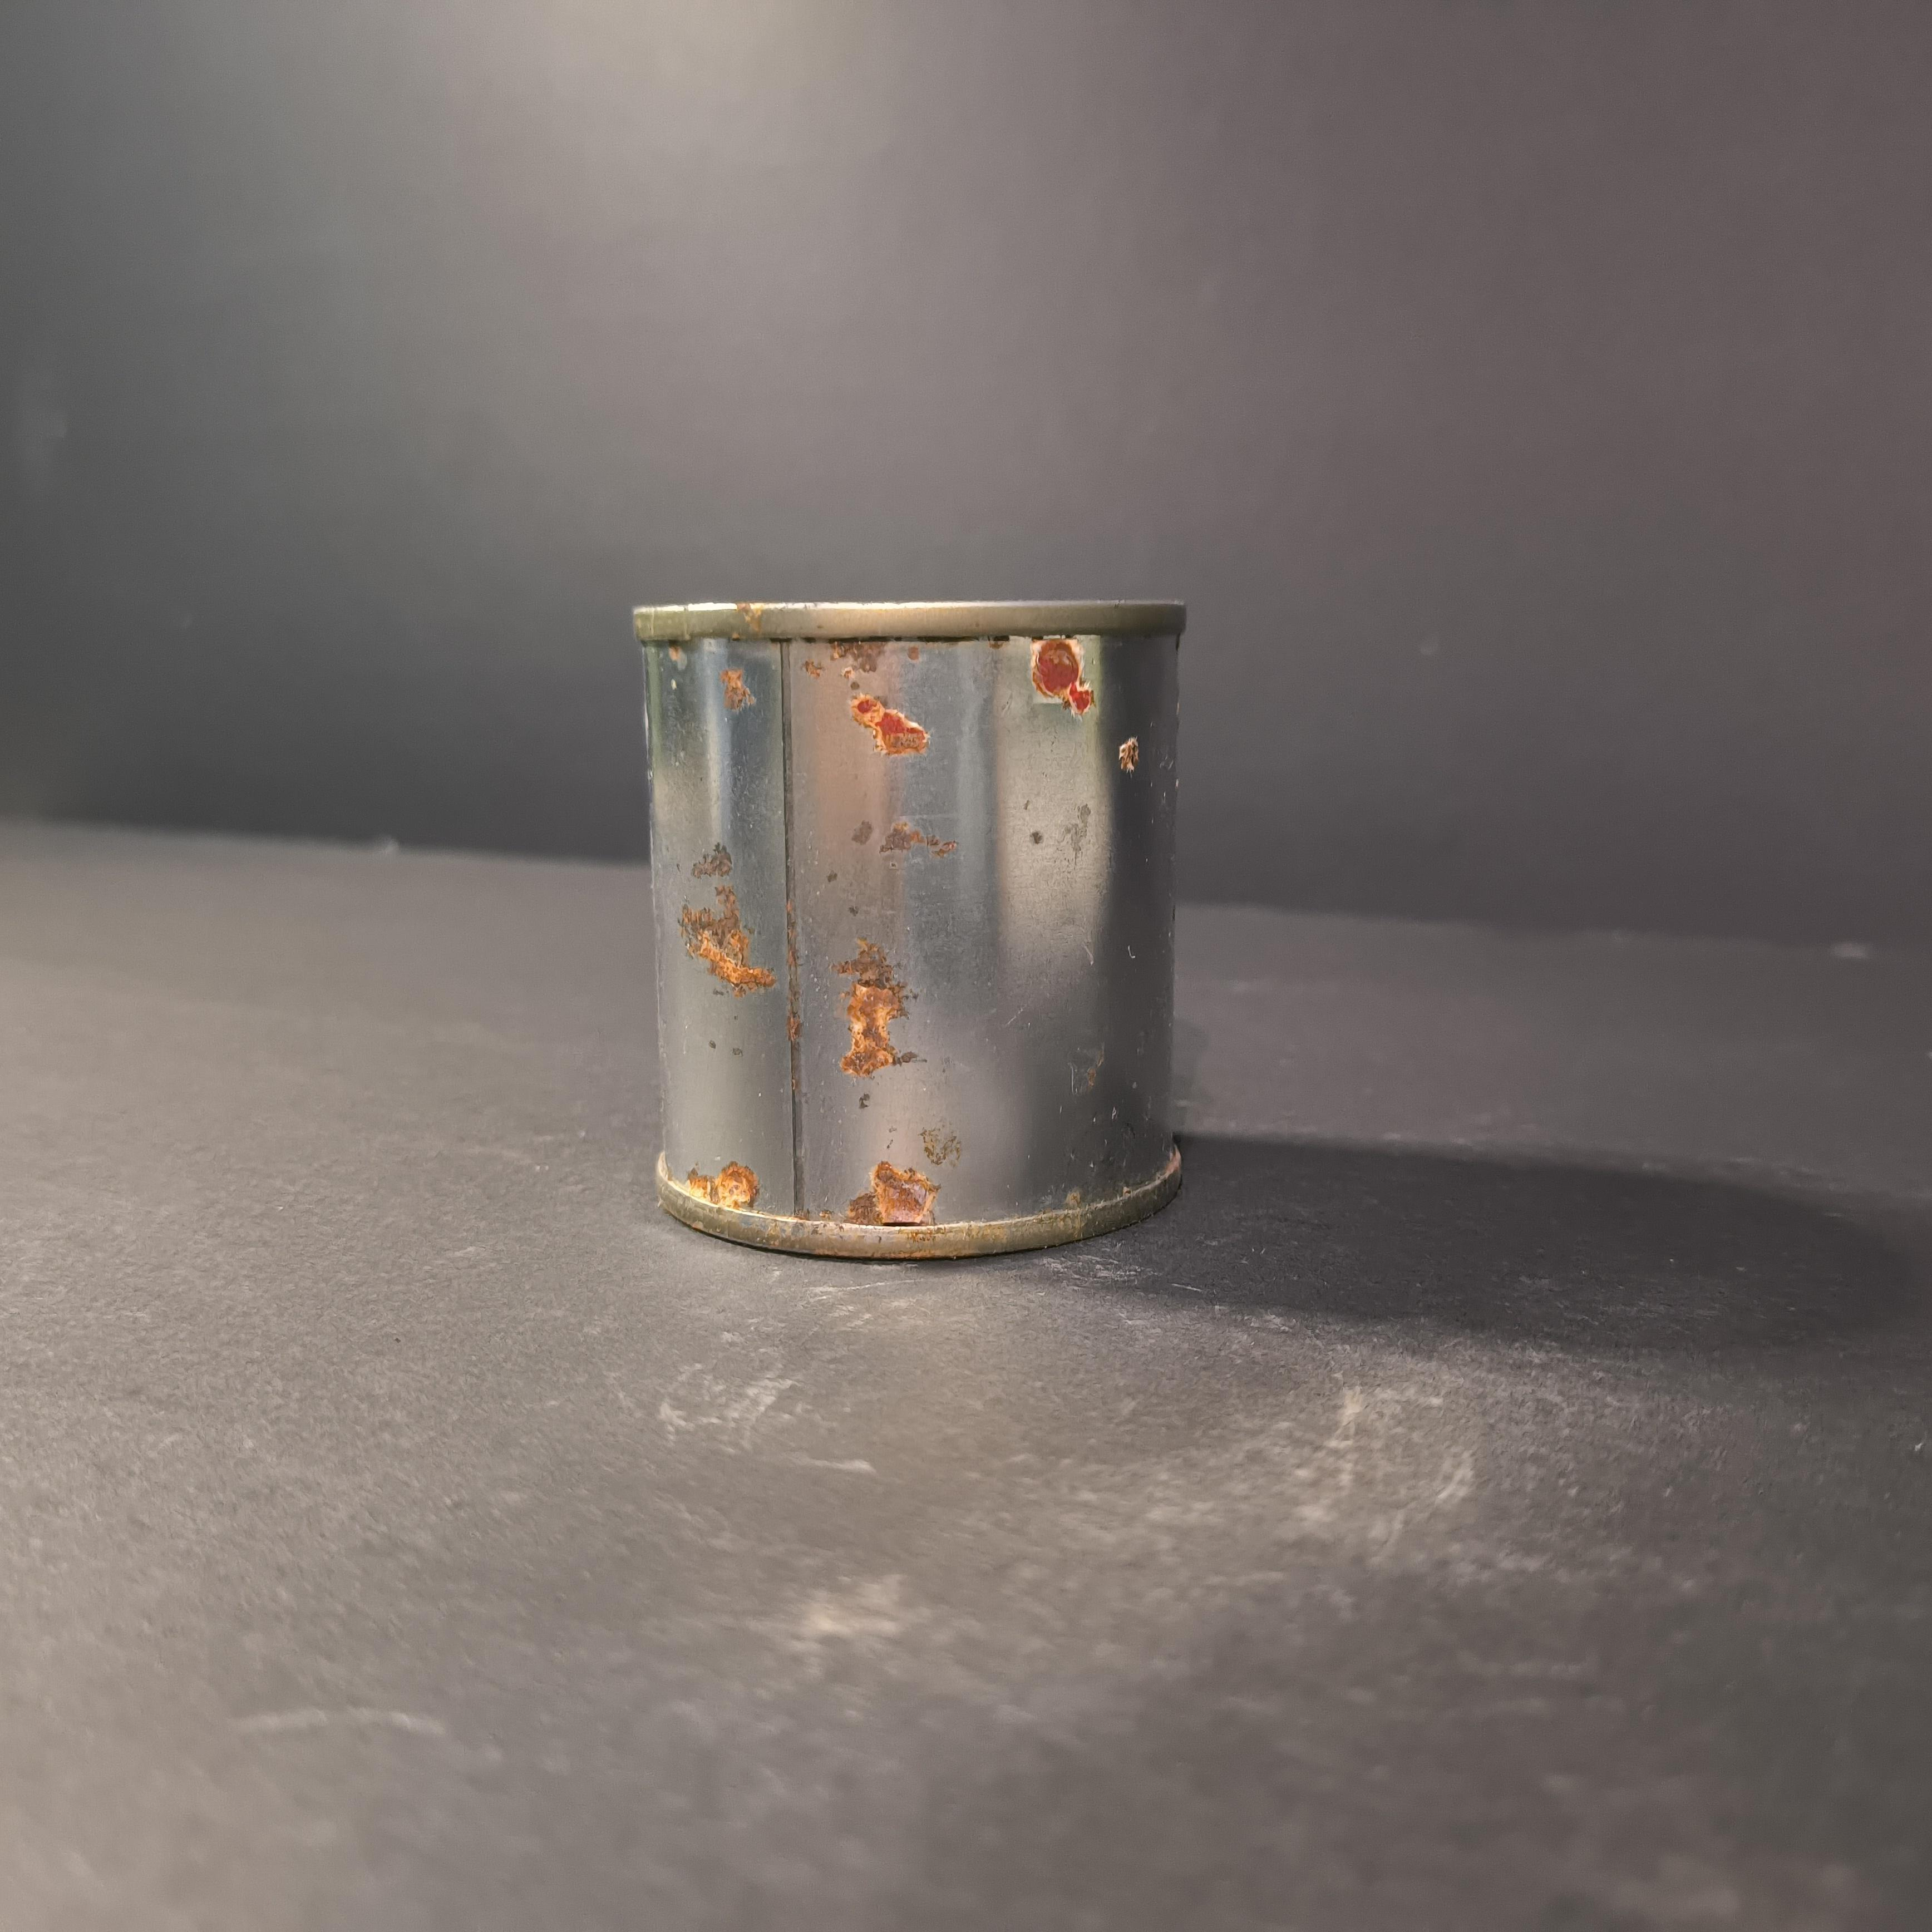Rusted: (621, 568, 1219, 1299)
